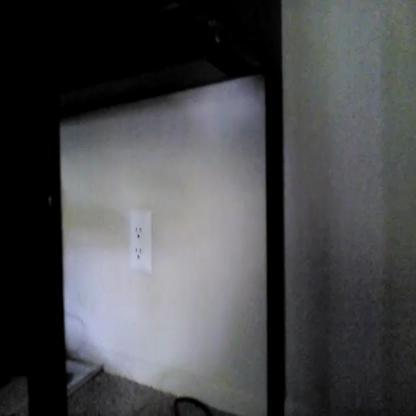OUTLET: (128, 210, 152, 272)
